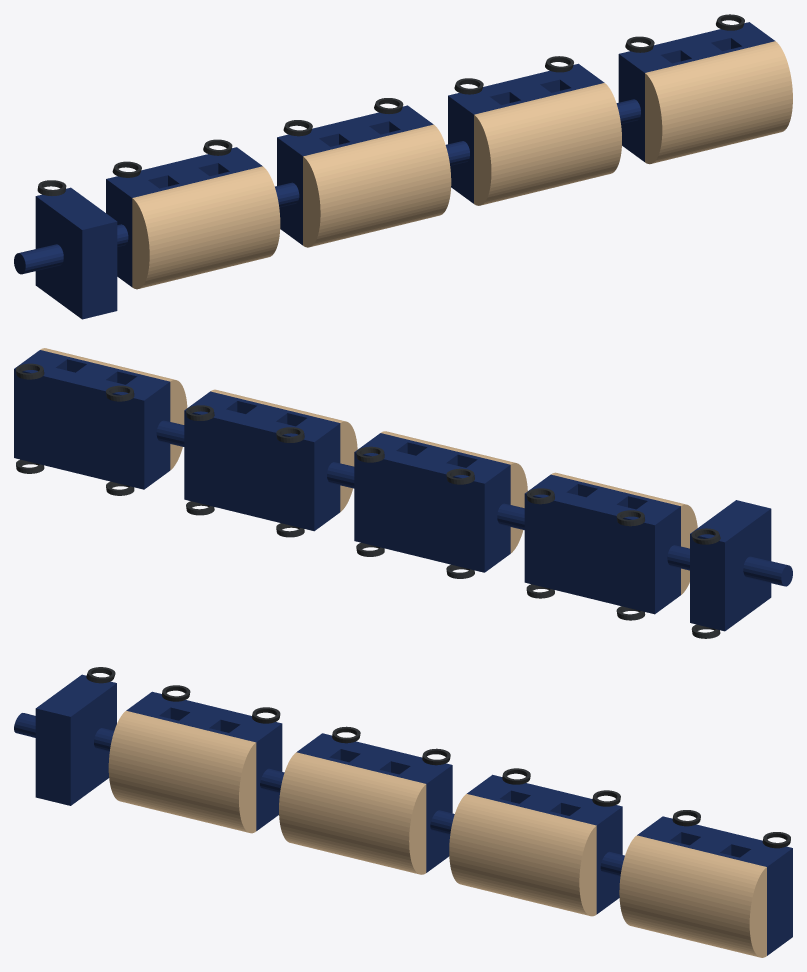
The model's file is tinker.obj.
3 views of the same model, one above another, from view 1: azimuth 30°, elevation 25°; view 2: azimuth 150°, elevation 25°; view 3: azimuth 330°, elevation 25° (orthographic).
Parts seen in each view (by area): view 1: group_0_14860437, group_0_1650274, group_0_2829873; view 2: group_0_1650274, group_0_2829873, group_0_14860437; view 3: group_0_14860437, group_0_1650274, group_0_2829873.
Part boxes in pixels (x1,y1,x2,y2): group_0_14860437: [132, 41, 792, 289]; group_0_1650274: [14, 22, 774, 319]; group_0_2829873: [37, 14, 744, 195]; group_0_1650274: [14, 350, 792, 631]; group_0_2829873: [16, 363, 720, 638]; group_0_14860437: [40, 348, 697, 594]; group_0_14860437: [108, 710, 766, 957]; group_0_1650274: [14, 674, 792, 955]; group_0_2829873: [86, 667, 790, 848].
Bounding box in the file's own units: 150 × 19 × 19.
